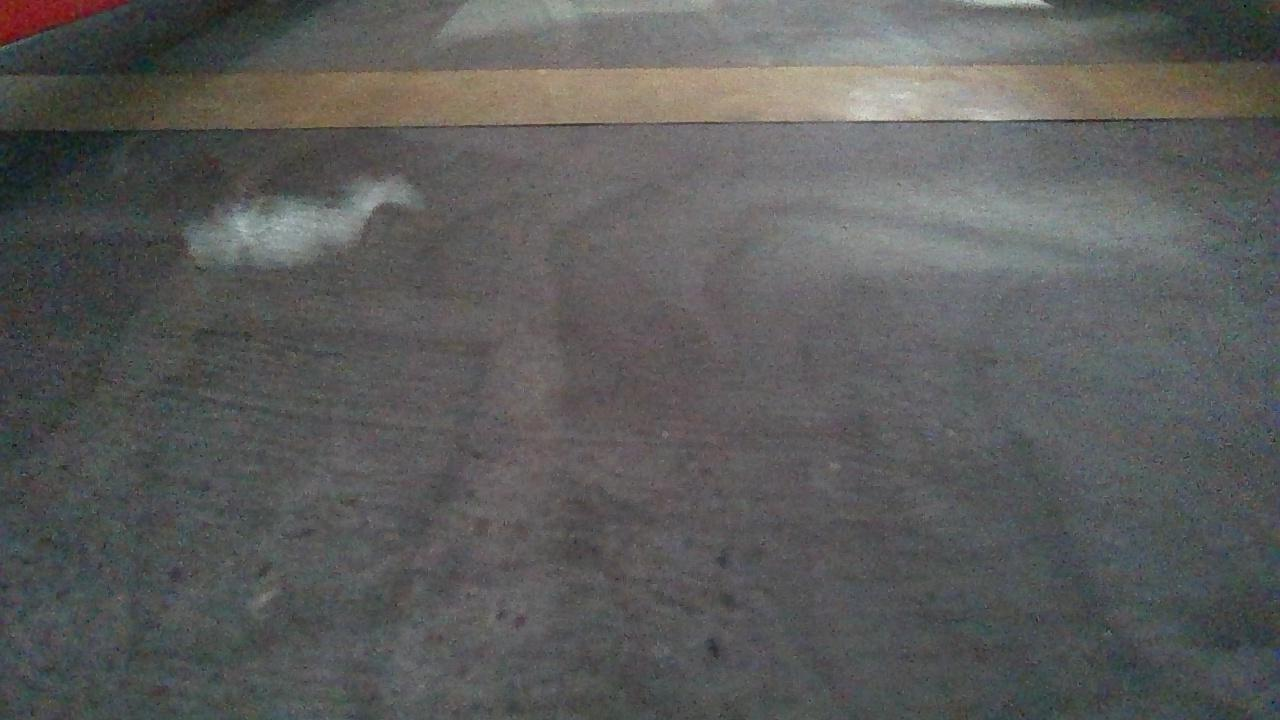yellow_line: (0, 70, 1280, 133)
